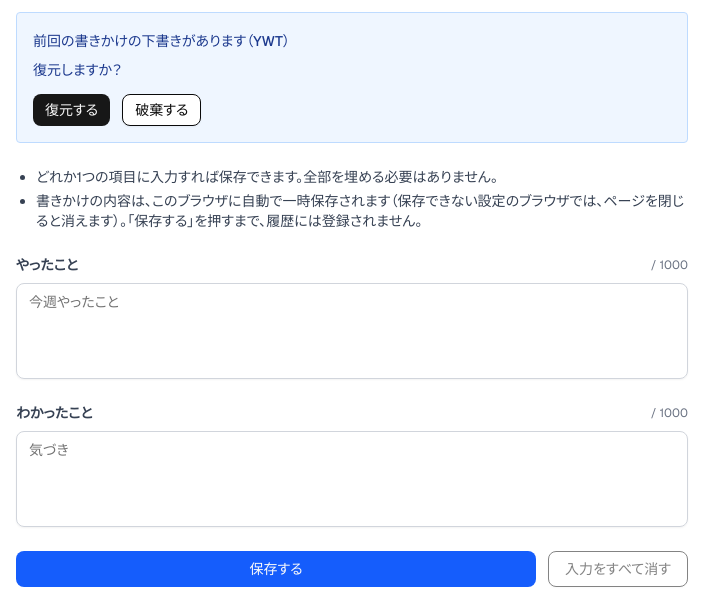
Scenario: ReflectionForm 下書きの自動保存 › 確認に答えないまま保存すると、その型の下書きは確認からも保存先からも消える
Step 1. Type "新しい入力" into the text box labelled "やったこと" → (352, 331), box [16,283,688,379]
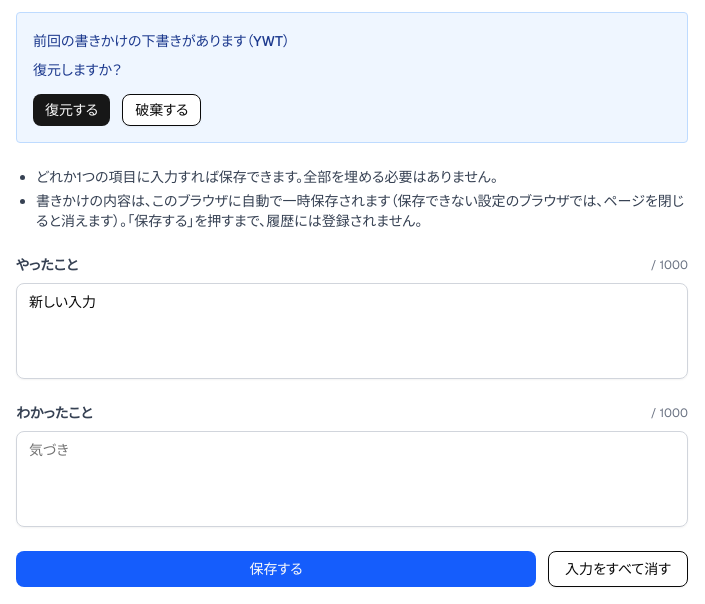
Step 2. Click the button "保存する" → (276, 569), box [16,551,536,587]
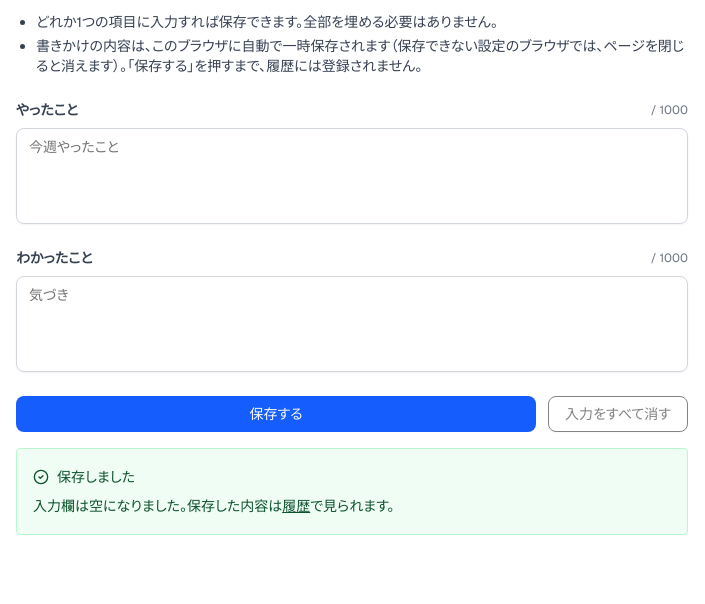
Result: the text "前回の書きかけの下書きがあります" is gone
